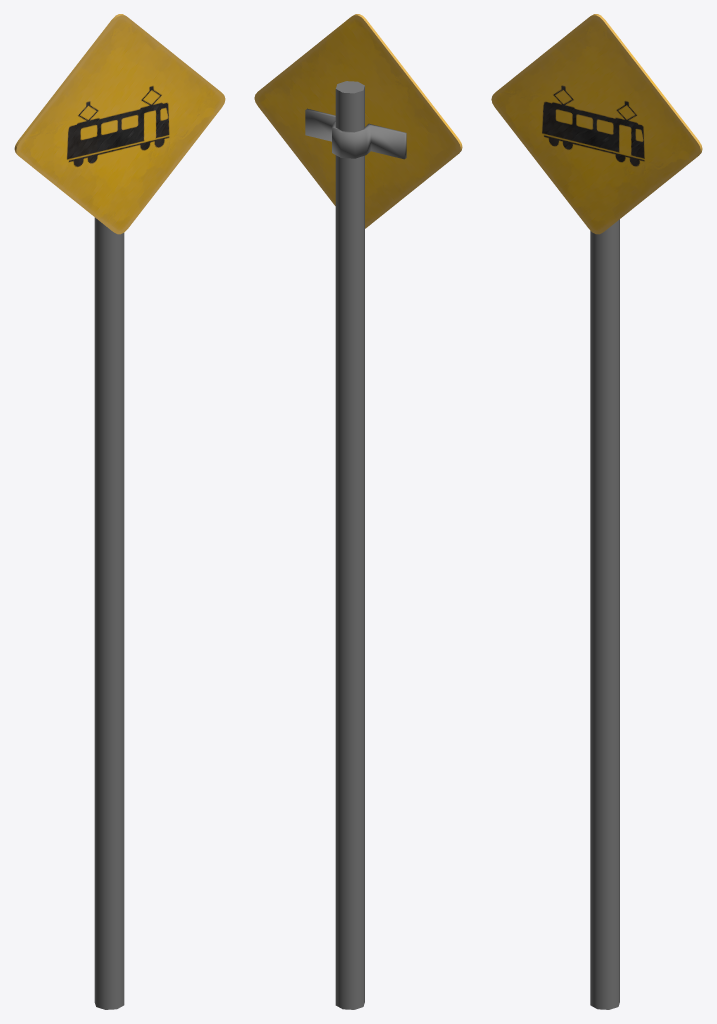
The model's file is SM_sign_traffic_011.fbx.
The picture shows the model from 3 angles, left to right: view 1: azimuth 30°, elevation 25°; view 2: azimuth 150°, elevation 25°; view 3: azimuth 330°, elevation 25°; orthographic projection.
Visible parts, largest first — view 1: Object32697; view 2: Object32697; view 3: Object32697.
Part boxes in pixels (x1,y1,x2,y2): Object32697: (14, 14, 225, 1009); Object32697: (254, 14, 462, 1009); Object32697: (491, 14, 702, 1009).
Size of the model in its own units: 24.87 by 113 by 4.11.
